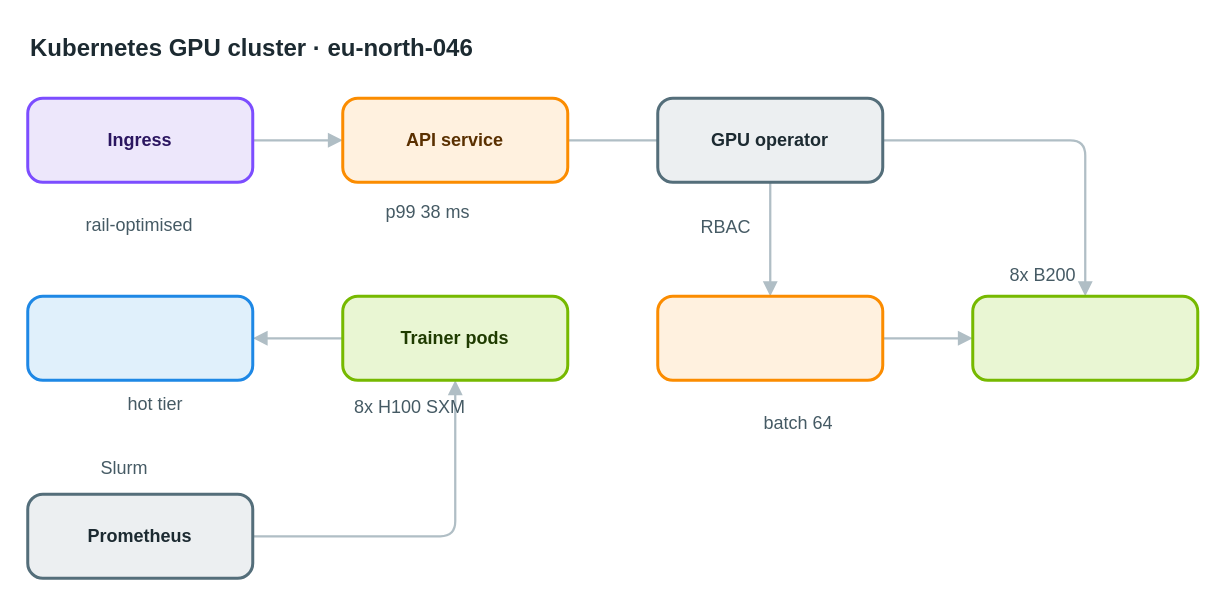
Image size: 1224x605. Some labels were removed from this diagram. Here are the shapes that lost their labels. From the top down, the centre of each, then its label:
(x=140, y=337): Volumes
(x=770, y=337): Inference pods
(x=1084, y=337): GPU node A
